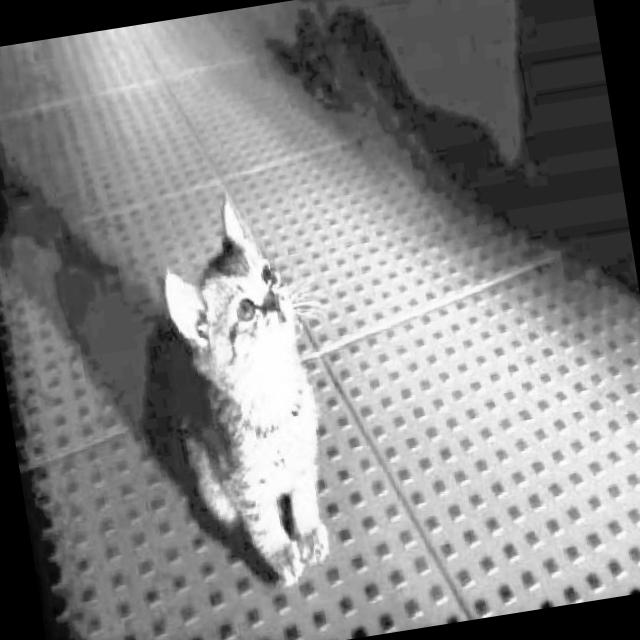Cat: (108, 181, 346, 610)
